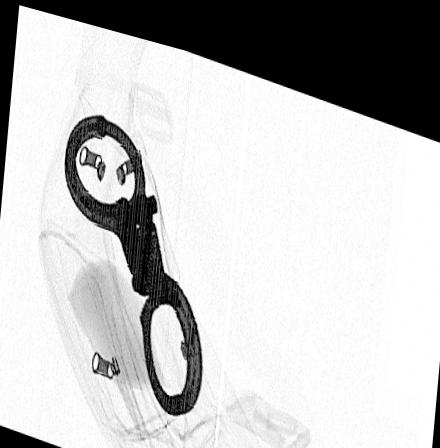HandCuffs: (60, 105, 203, 410)
